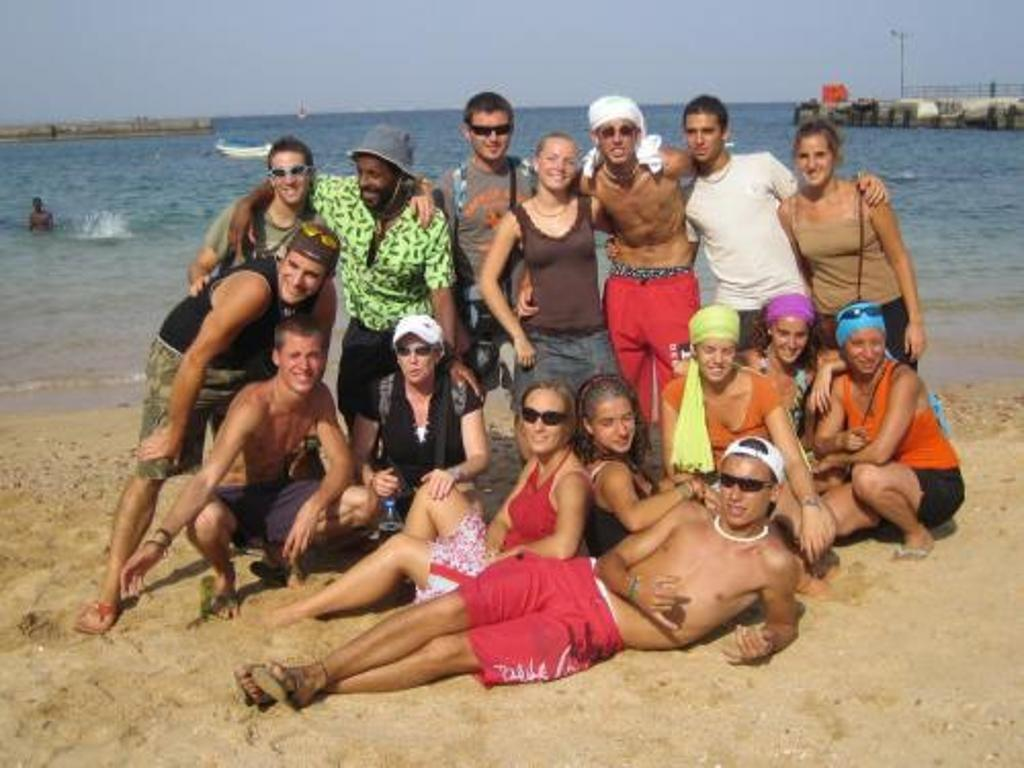face: (719, 454, 770, 527), (280, 330, 326, 393), (277, 246, 325, 305), (521, 394, 565, 453), (593, 400, 635, 454), (356, 154, 397, 207), (537, 137, 576, 190), (471, 109, 510, 160), (846, 323, 885, 374), (271, 150, 308, 203), (396, 336, 436, 383), (598, 115, 635, 164), (697, 334, 734, 382), (797, 135, 832, 185), (685, 114, 720, 162), (773, 316, 808, 362), (33, 201, 40, 211)
